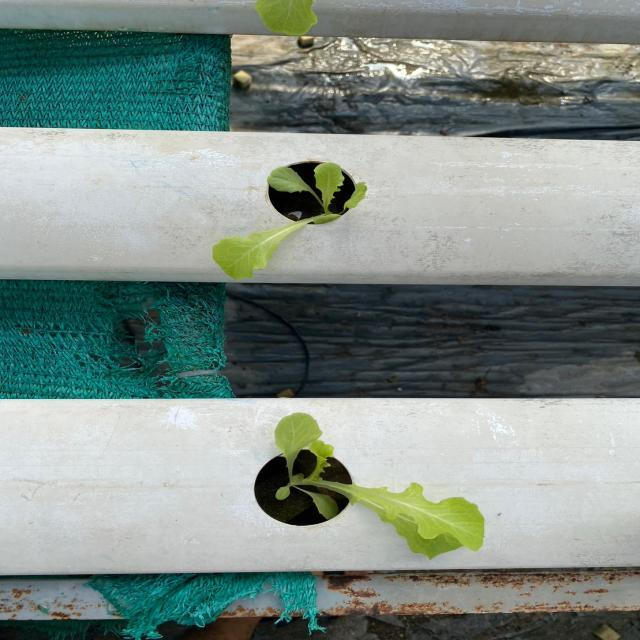Lettuce-Not-Ready-to-Harvest: (274, 413, 485, 560), (211, 163, 367, 281)
